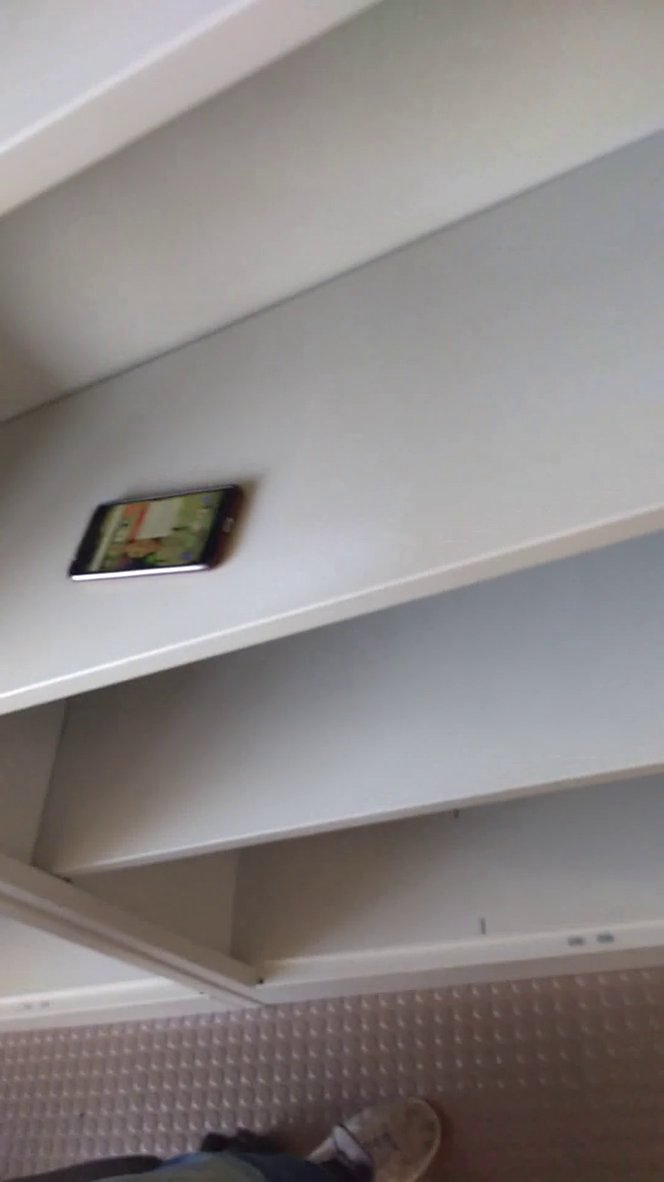phone: (62, 475, 253, 591)
